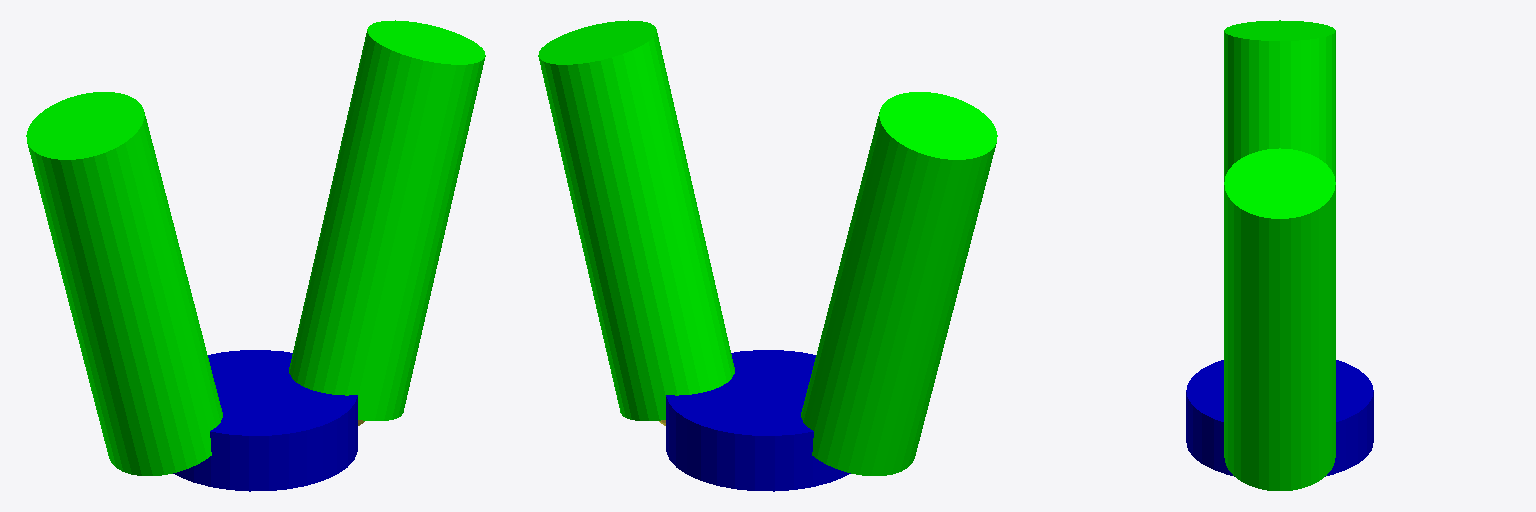
robot.urdf — gripper_2f_1j:
<?xml version='1.0' encoding='UTF-8'?>
<robot name="gripper_2f_1j">
  <link name="palm">
    <inertial>
      <origin xyz="0.0 0.0 0.0" rpy="0.0 -0.0 0.0"/>
      <mass value="1.0"/>
      <inertia ixx="1.0" ixy="0.0" ixz="0.0" iyy="1.0" iyz="0.0" izz="1.0"/>
    </inertial>
    <visual>
      <geometry>
        <cylinder radius="0.05" length="0.03"/>
      </geometry>
      <material name="blue"/>
      <origin xyz="0.0 0.0 0.0" rpy="0.0 -0.0 0.0"/>
    </visual>
    <collision>
      <geometry>
        <cylinder radius="0.05" length="0.03"/>
      </geometry>
      <origin xyz="0.0 0.0 0.0" rpy="0.0 0.0 0.0"/>
    </collision>
  </link>
  <link name="f11">
    <inertial>
      <origin xyz="0.0 0.0 0.0" rpy="0.0 -0.0 0.0"/>
      <mass value="1.0"/>
      <inertia ixx="1.0" ixy="0.0" ixz="0.0" iyy="1.0" iyz="0.0" izz="1.0"/>
    </inertial>
    <visual>
      <geometry>
        <cylinder radius="0.02971540386031122" length="0.18767645866732577"/>
      </geometry>
      <material name="green"/>
      <origin xyz="0.0 0.0 0.09383822933366288" rpy="0.0 -0.0 0.0"/>
    </visual>
    <collision>
      <geometry>
        <cylinder radius="0.02971540386031122" length="0.18767645866732577"/>
      </geometry>
      <origin xyz="0.0 0.0 0.05" rpy="0.0 0.0 0.0"/>
    </collision>
  </link>
  <link name="f21">
    <inertial>
      <origin xyz="0.0 0.0 0.0" rpy="0.0 -0.0 0.0"/>
      <mass value="1.0"/>
      <inertia ixx="1.0" ixy="0.0" ixz="0.0" iyy="1.0" iyz="0.0" izz="1.0"/>
    </inertial>
    <visual>
      <geometry>
        <cylinder radius="0.02971540386031122" length="0.18767645866732577"/>
      </geometry>
      <material name="green"/>
      <origin xyz="0.0 0.0 0.09383822933366288" rpy="0.0 -0.0 0.0"/>
    </visual>
    <collision>
      <geometry>
        <cylinder radius="0.02971540386031122" length="0.18767645866732577"/>
      </geometry>
      <origin xyz="0.0 0.0 0.05" rpy="0.0 0.0 0.0"/>
    </collision>
  </link>
  <link name="f11_base">
    <inertial>
      <origin xyz="0.0 0.0 0.0" rpy="0.0 -0.0 0.0"/>
      <mass value="1.0"/>
      <inertia ixx="1.0" ixy="0.0" ixz="0.0" iyy="1.0" iyz="0.0" izz="1.0"/>
    </inertial>
    <visual>
      <geometry>
        <sphere radius="0.015"/>
      </geometry>
      <origin xyz="0.0 0.0 0.0" rpy="0.0 -0.0 0.0"/>
    </visual>
  </link>
  <link name="f21_base">
    <inertial>
      <origin xyz="0.0 0.0 0.0" rpy="0.0 -0.0 0.0"/>
      <mass value="1.0"/>
      <inertia ixx="1.0" ixy="0.0" ixz="0.0" iyy="1.0" iyz="0.0" izz="1.0"/>
    </inertial>
    <visual>
      <geometry>
        <sphere radius="0.015"/>
      </geometry>
      <origin xyz="0.0 0.0 0.0" rpy="0.0 -0.0 0.0"/>
    </visual>
  </link>
  <joint name="f11_joint" type="revolute">
    <dynamics damping="100.0" friction="1.0"/>
    <limit effort="30.0" velocity="2.0" lower="-0.6" upper="0.25"/>
    <parent link="f11_base"/>
    <child link="f11"/>
    <axis xyz="0. 1. 0."/>
    <origin xyz="0.0 0.0 0.0" rpy="0.0 0.25 0.0"/>
  </joint>
  <joint name="f21_joint" type="revolute">
    <dynamics damping="100.0" friction="1.0"/>
    <limit effort="30.0" velocity="2.0" lower="-0.6" upper="0.25"/>
    <parent link="f21_base"/>
    <child link="f21"/>
    <axis xyz=" 0. -1.  0."/>
    <origin xyz="0.0 0.0 0.0" rpy="0.0 -0.25 0.0"/>
  </joint>
  <joint name="f11_base_joint" type="fixed">
    <parent link="palm"/>
    <child link="f11_base"/>
    <axis xyz="1. 0. 0."/>
    <origin xyz="0.05 0.0 0.0" rpy="0.0 0.0 0.0"/>
  </joint>
  <joint name="f21_base_joint" type="fixed">
    <parent link="palm"/>
    <child link="f21_base"/>
    <axis xyz="1. 0. 0."/>
    <origin xyz="-0.05 -0.0 0.0" rpy="0.0 0.0 0.0"/>
  </joint>
  <material name="blue">
    <color rgba="0.  0.  0.8 1. "/>
  </material>
  <material name="green">
    <color rgba="0. 1. 0. 1."/>
  </material>
</robot>

--- Facts derived from the render (not from the file) ---
Views: 3 orthographic renders of the robot side by side, from view 1: azimuth 30°, elevation 25°; view 2: azimuth 150°, elevation 25°; view 3: azimuth 270°, elevation 25°.
Model gripper_2f_1j with 5 links and 4 joints (2 revolute, 2 fixed), rooted at palm, posed all joints at 0.
Visible links, largest first — view 1: f11, f21, palm; view 2: f11, f21, palm; view 3: f11, f21, palm.
Boxes of the visible links, <box> form: f11: <box>289,20,485,420</box>; f21: <box>26,92,222,475</box>; palm: <box>173,350,357,491</box>; f11: <box>538,20,734,420</box>; f21: <box>801,92,997,475</box>; palm: <box>666,350,850,491</box>; f11: <box>1224,148,1335,490</box>; f21: <box>1224,20,1335,181</box>; palm: <box>1186,360,1373,476</box>.
Size in the robot's own frame: 0.2504 by 0.1 by 0.2042 metres.
Geometry: primitives only (box / cylinder / sphere), no mesh files.